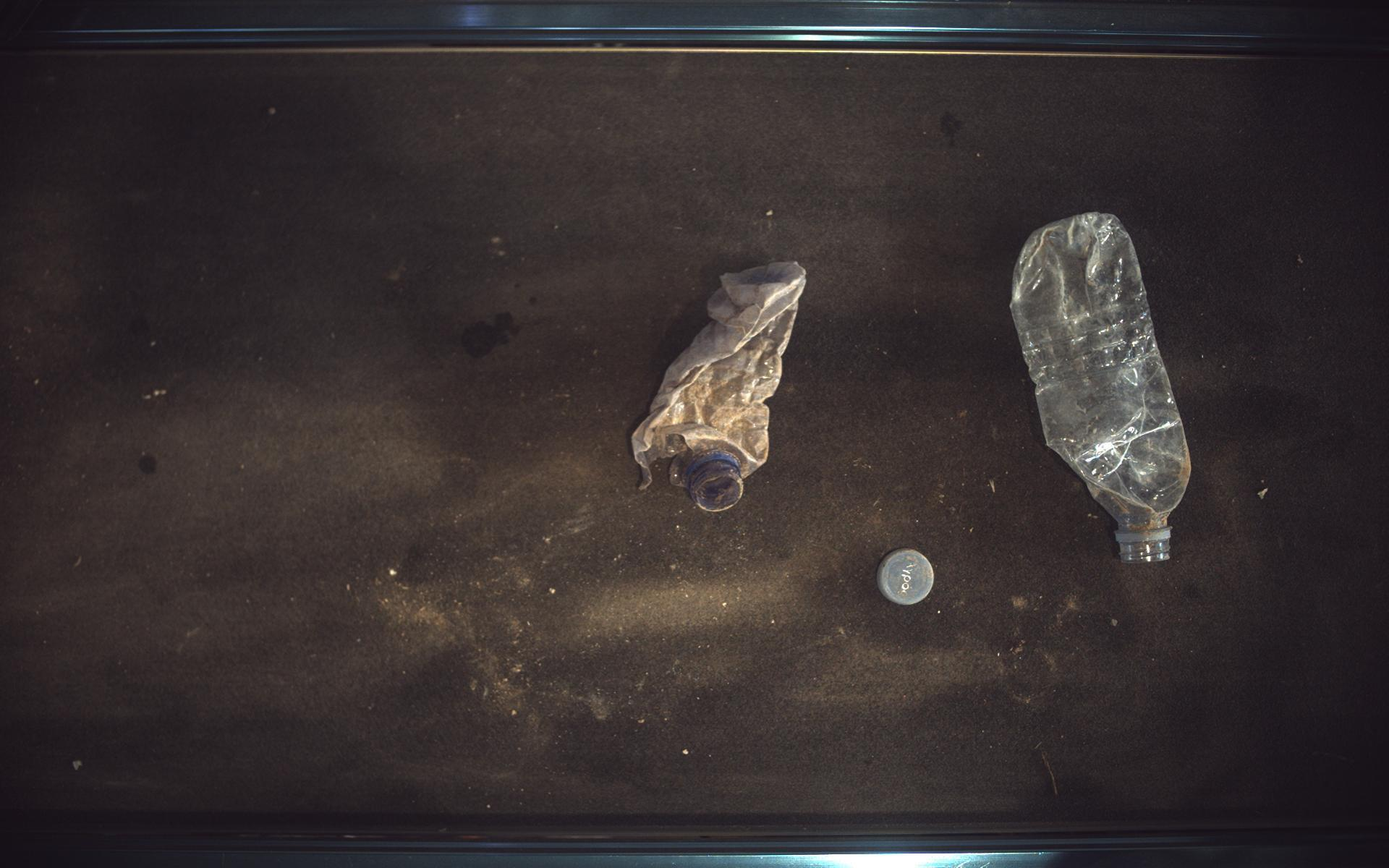general_w: (1013, 212, 1194, 563), (633, 261, 807, 512), (878, 549, 936, 606)
